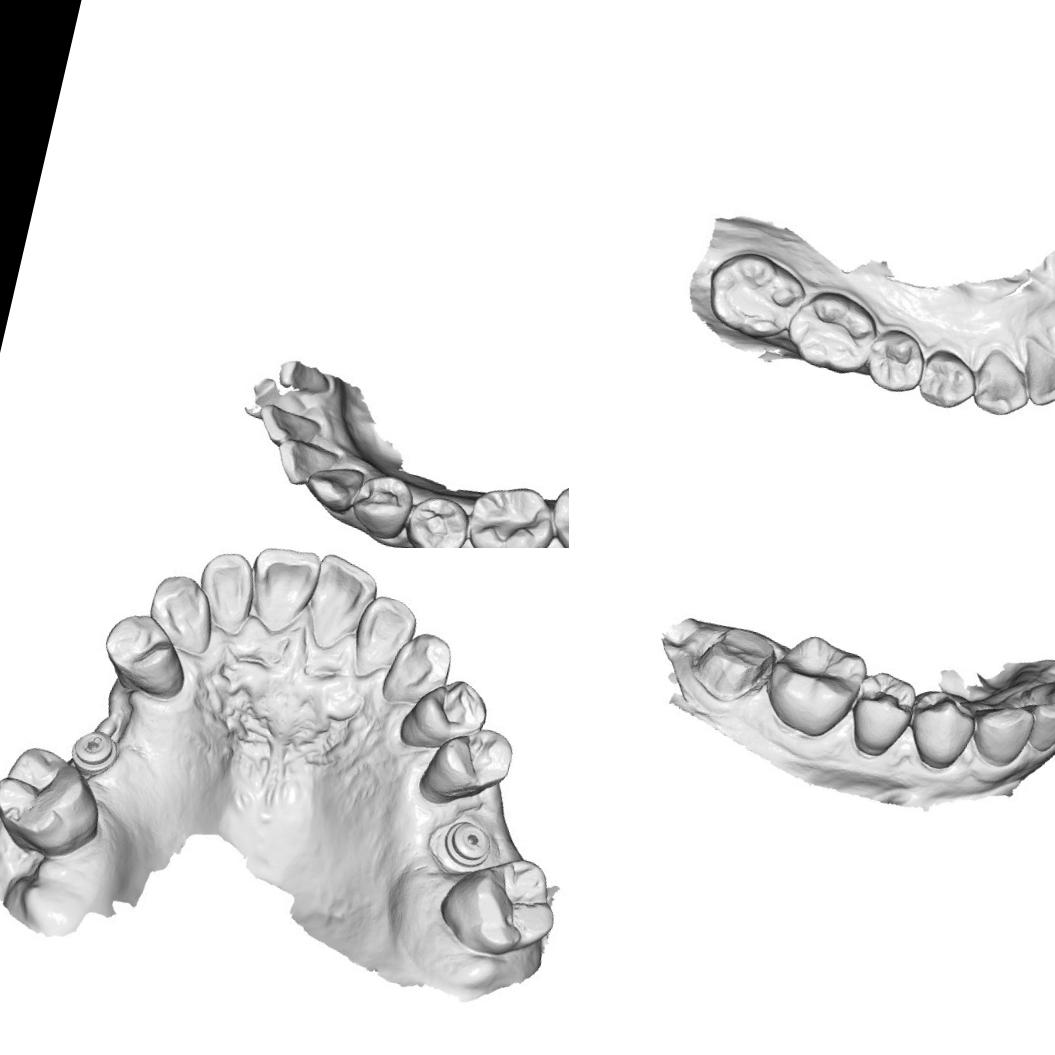canine: (140, 569, 226, 661), (380, 623, 459, 712), (968, 345, 1040, 426), (968, 688, 1038, 770), (304, 458, 370, 520)
crown: (681, 604, 784, 714)
implant: (426, 813, 511, 882)
implant_minus: (63, 720, 128, 787)
incisor: (300, 551, 382, 654), (240, 548, 321, 639), (192, 548, 268, 642), (350, 587, 420, 688), (272, 431, 346, 500), (256, 399, 325, 455), (1011, 332, 1055, 413), (1026, 693, 1055, 762)
molar: (428, 845, 568, 971), (0, 741, 118, 868), (761, 627, 871, 744), (701, 242, 810, 346), (783, 279, 884, 379), (459, 477, 560, 548), (545, 468, 569, 548)
premolar: (413, 716, 517, 819), (98, 610, 198, 710), (391, 673, 493, 764), (906, 685, 980, 774), (846, 670, 918, 760), (352, 469, 420, 544), (914, 340, 981, 415), (400, 490, 474, 548), (866, 327, 929, 395)
